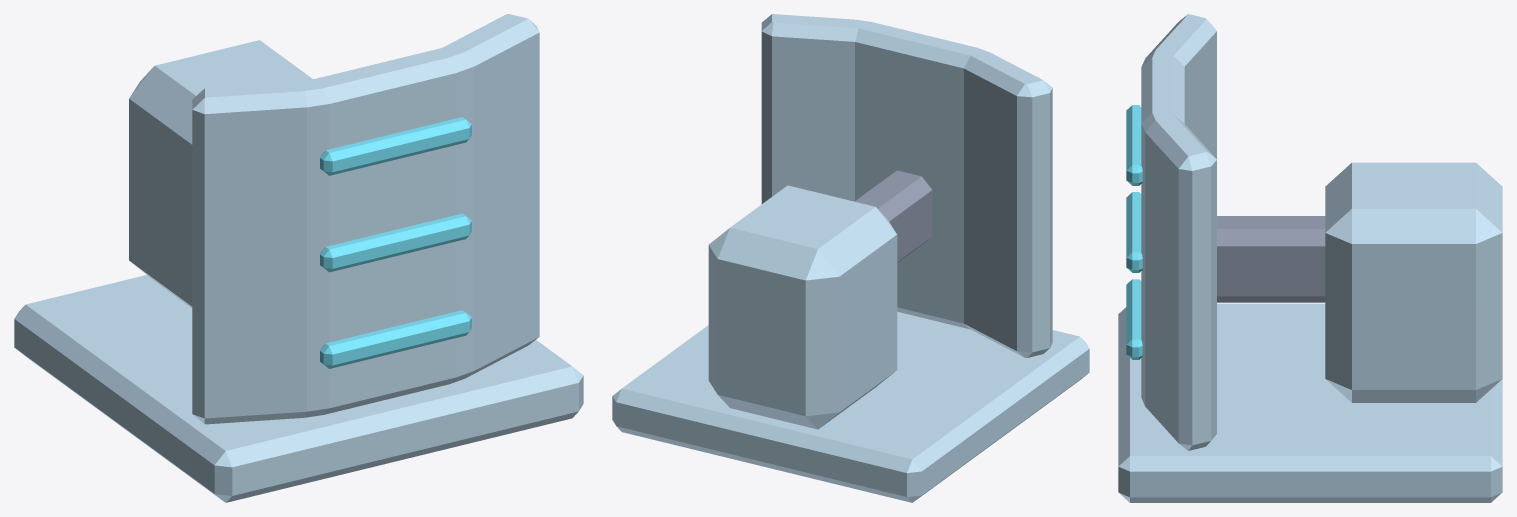
File: R4X_DirectionalShield_LOD1.glb
3 renders of one model, left to right at view 1: azimuth 30°, elevation 25°; view 2: azimuth 150°, elevation 25°; view 3: azimuth 270°, elevation 25°, orthographic. The views are drawn at different scales.
Parts seen in each view (by area): view 1: R4X_DirectionalShield_LOD1; view 2: R4X_DirectionalShield_LOD1; view 3: R4X_DirectionalShield_LOD1.
Boxes of the visible parts, box(x1,y1,x2,y2) form: R4X_DirectionalShield_LOD1: box(14, 14, 583, 502); R4X_DirectionalShield_LOD1: box(612, 14, 1089, 502); R4X_DirectionalShield_LOD1: box(1118, 14, 1502, 502).
Size of the model in its own units: 0.52 by 0.51 by 0.52.
